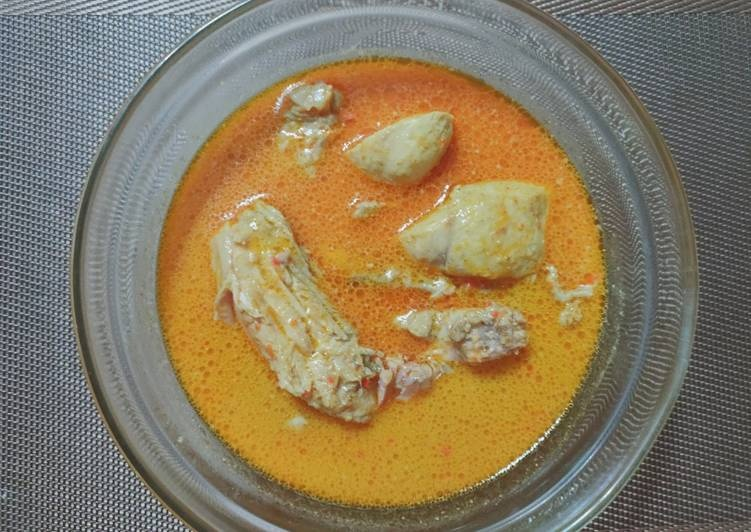gulai_ayam: (134, 46, 632, 526)
